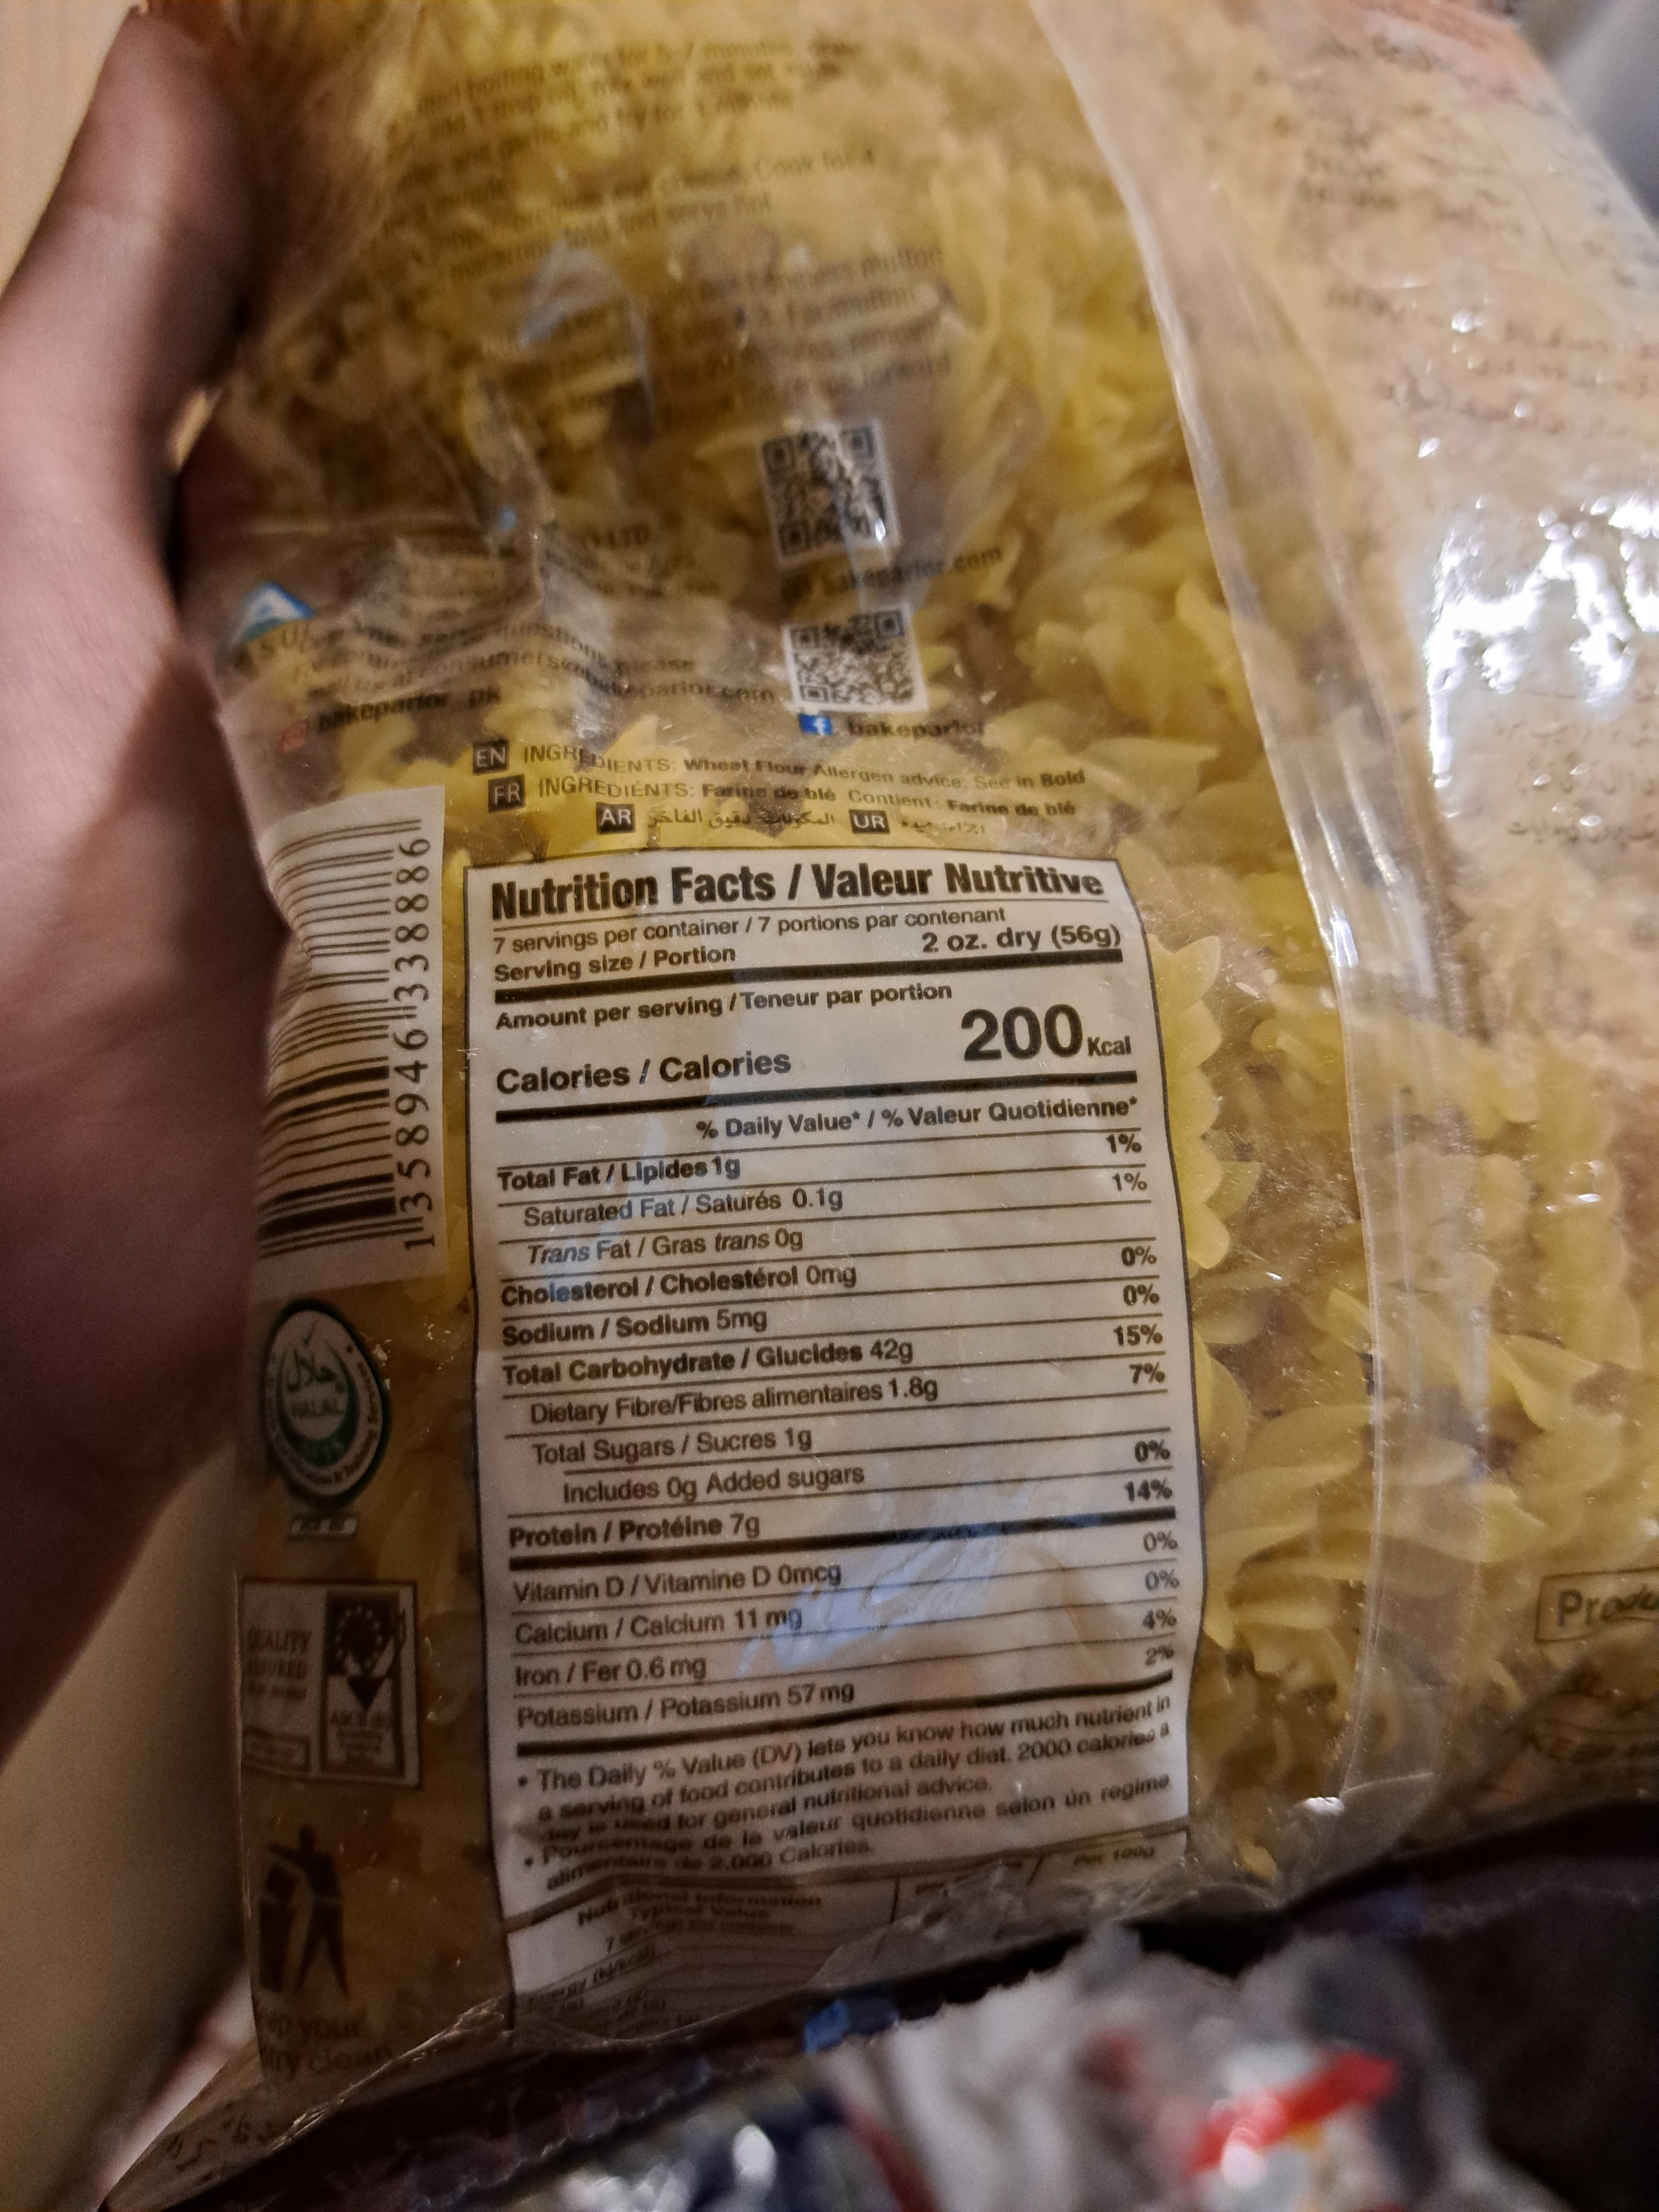table: (462, 867, 1197, 1904)
